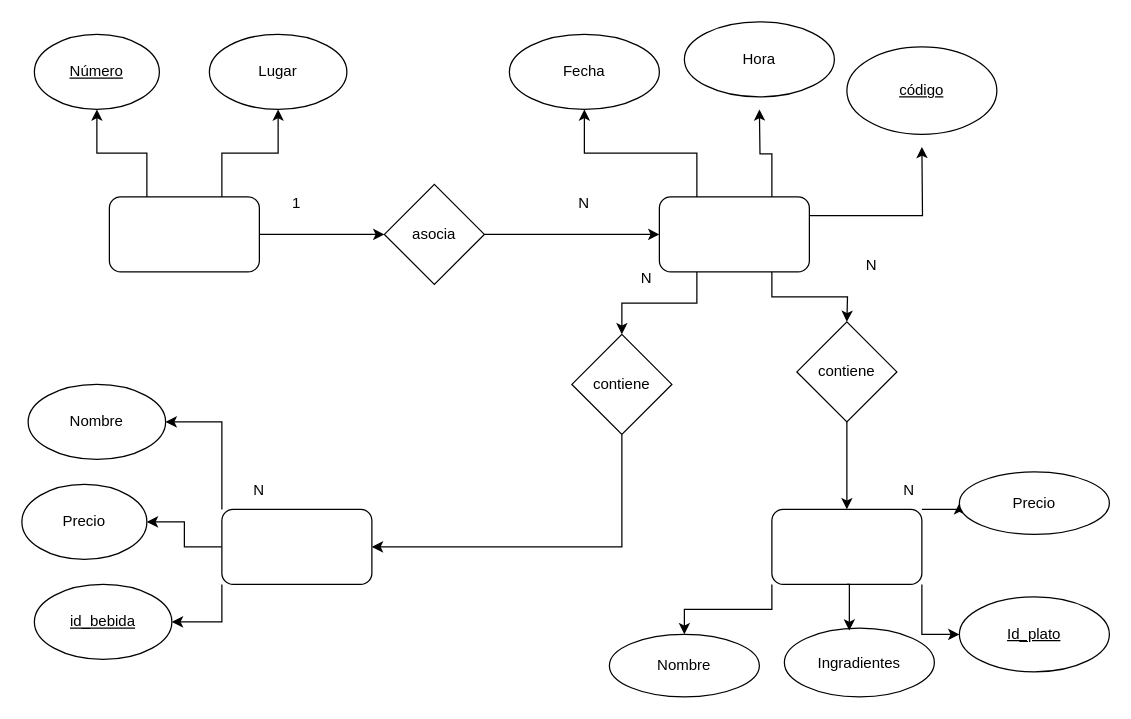
Image size: 1131x719. Some labels were removed from this diagram. Each missing label, with the centre of its shape:
"Bebida" belongs at [296,546].
"Cuenta" belongs at [733,234].
"Mesa" belongs at [183,234].
"Plato" belongs at [846,546].
